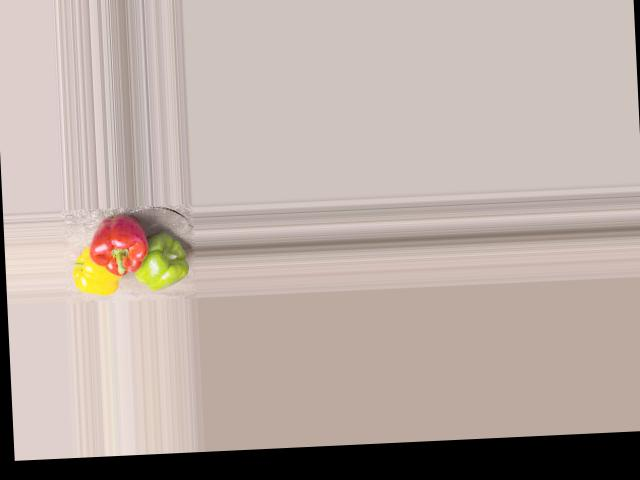bell_pepper: (72, 244, 120, 299)
